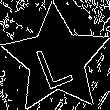L_N: (33, 30, 80, 89)
